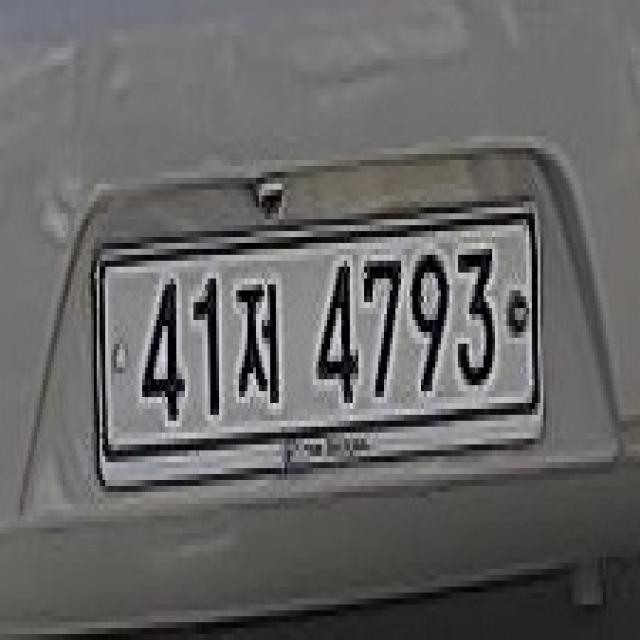plat: (86, 185, 549, 505)
